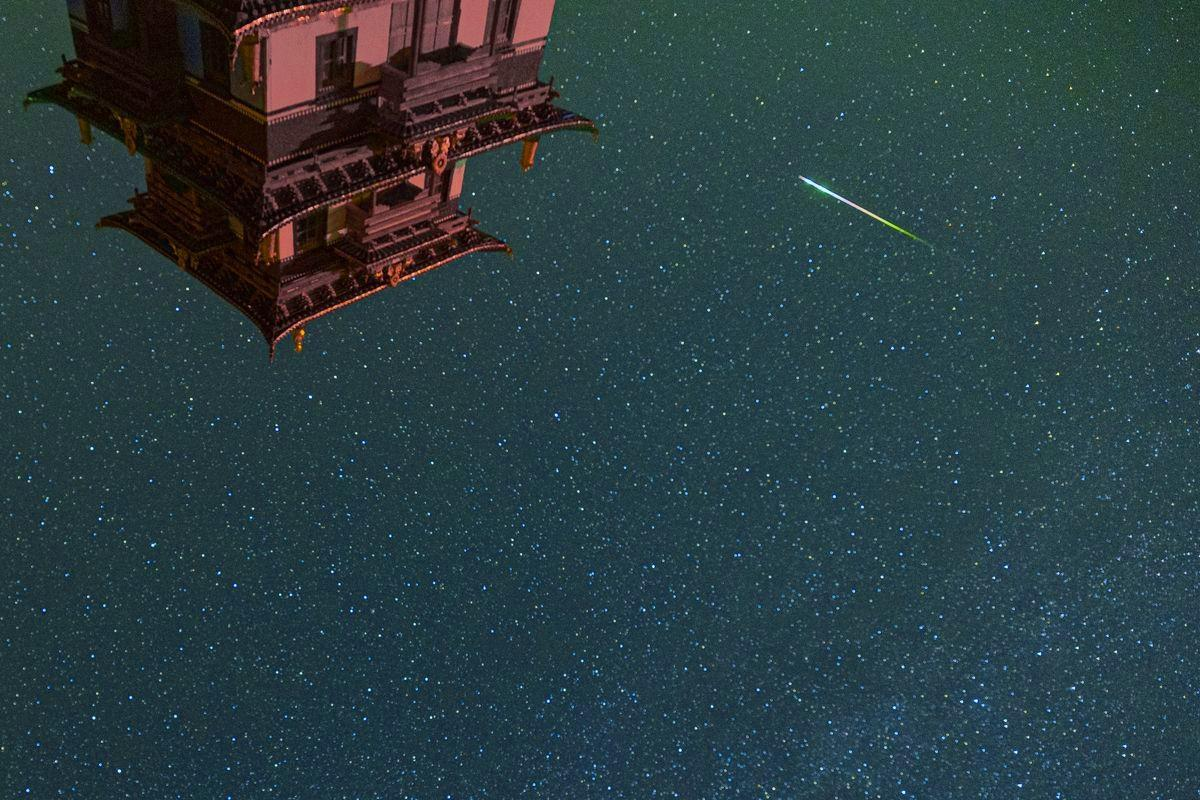meteorite: (763, 147, 961, 268)
